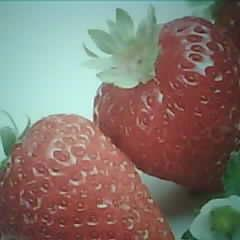straw-ripe: (95, 17, 240, 192), (0, 112, 171, 240)
